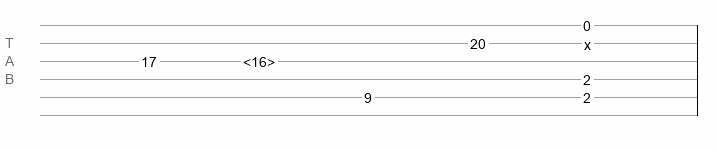0: (583, 18, 591, 28)
17: (141, 54, 157, 64)
2: (583, 90, 591, 100), (583, 72, 591, 82)
20: (470, 36, 486, 46)
9: (364, 90, 372, 100)
harmonic: (243, 54, 275, 64)
x: (584, 37, 591, 45)
